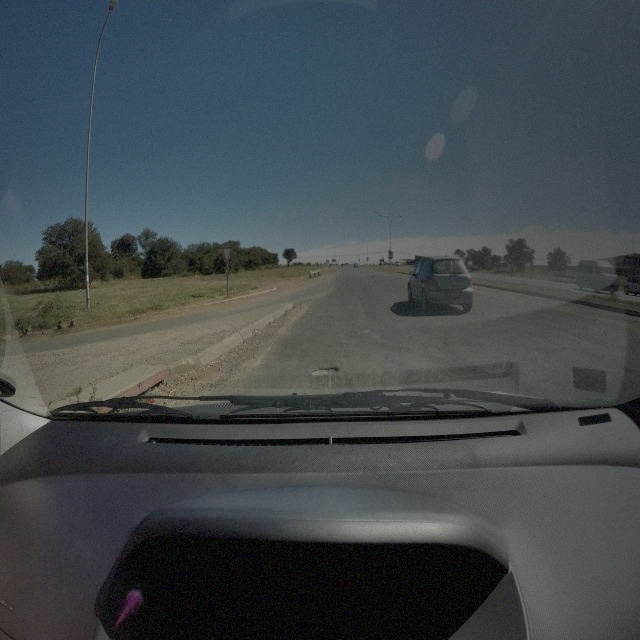pothole: (309, 365, 340, 375)
